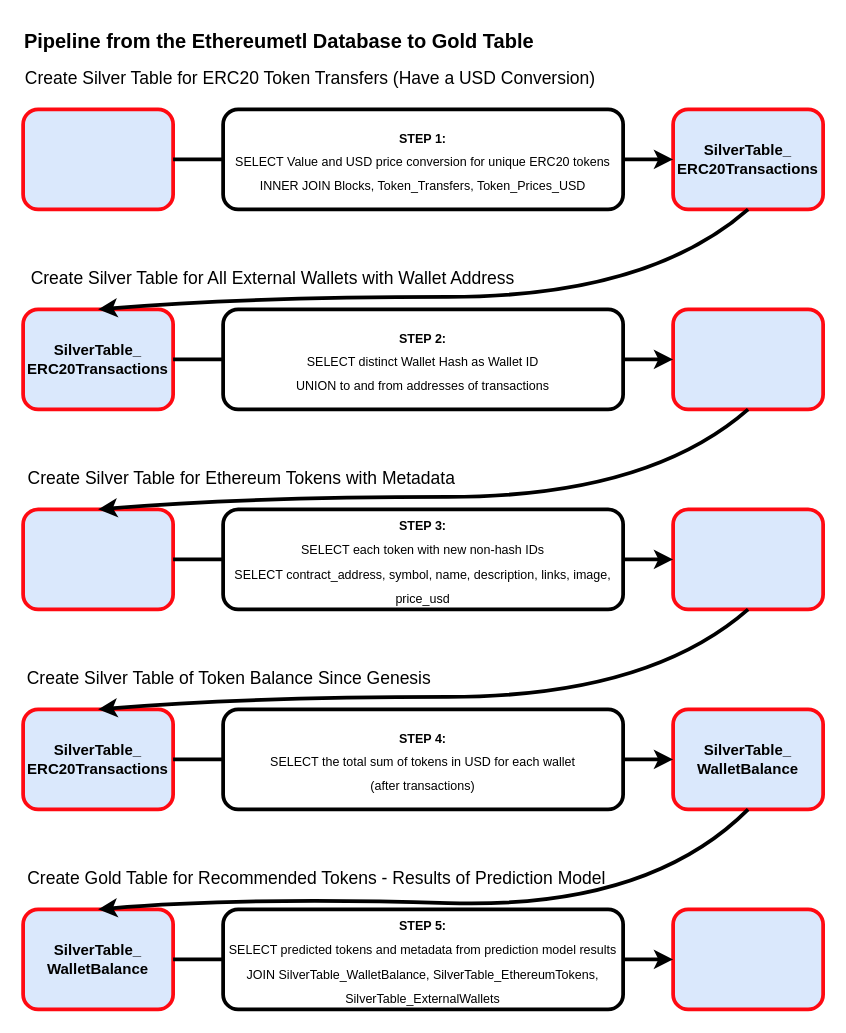
The diagram is 846 pixels wide and 1033 high, and some of its shapes have lost their labels. Here are the shapes that lost their labels. From the top down, the box of each, then its label:
(21, 107, 174, 211): Blocks (ethereumetl)
(671, 307, 824, 411): SilverTable_ ExternalWallets
(21, 507, 174, 611): Token_Prices_USD (ethereumetl)
(671, 507, 824, 611): SilverTable_ EthereumTokens
(671, 907, 824, 1011): GoldTable_ Recommendations
